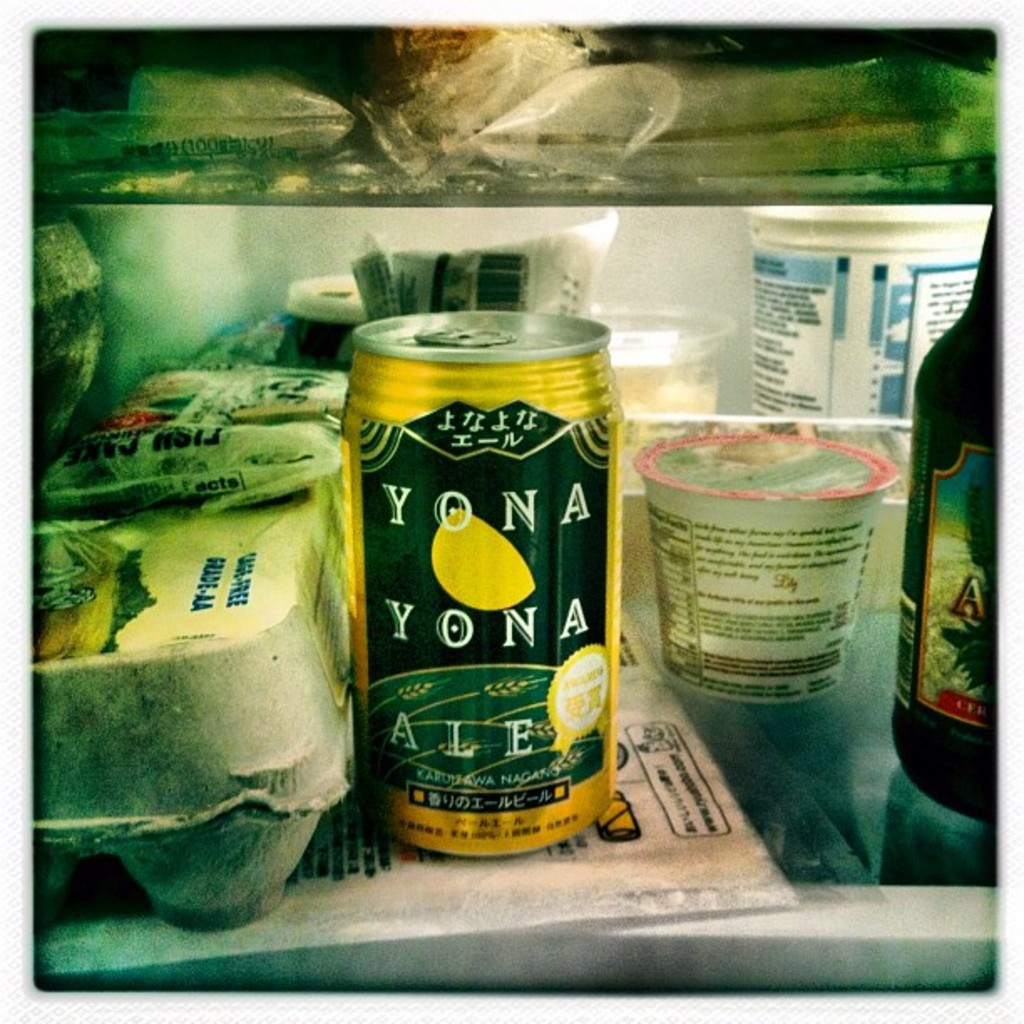can: (891, 196, 996, 823)
